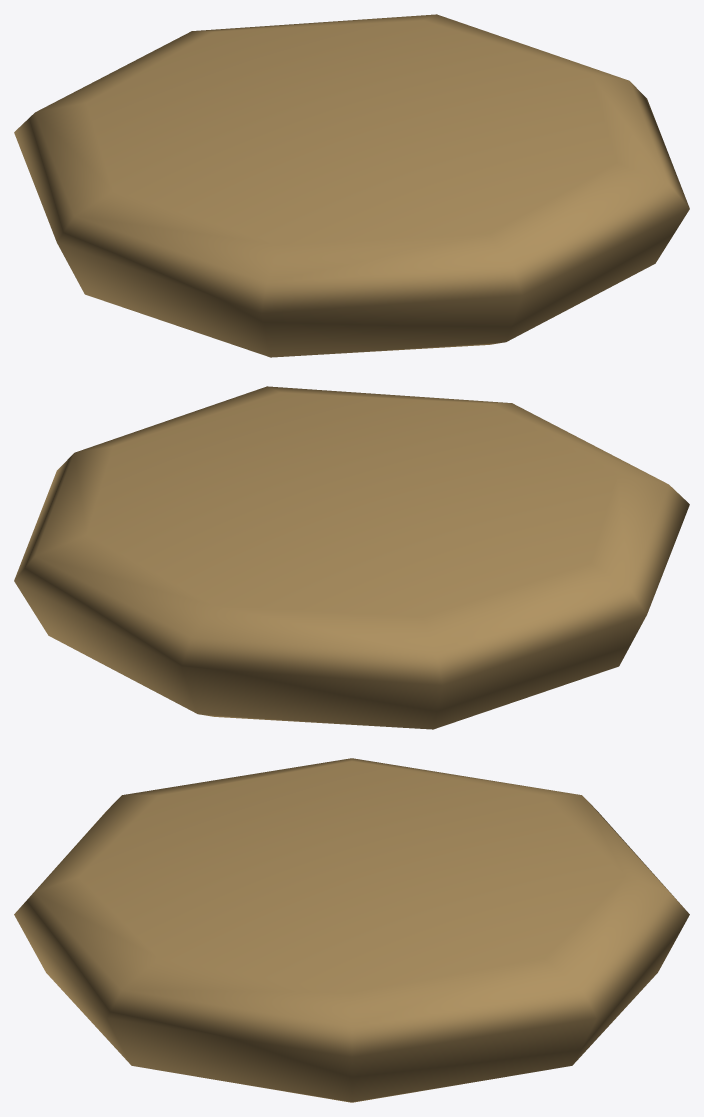
File: M_Food_Bun_001.fbx
The picture shows the model from 3 angles, top to bottom: view 1: azimuth 30°, elevation 25°; view 2: azimuth 150°, elevation 25°; view 3: azimuth 270°, elevation 25°; orthographic projection.
Parts seen in each view (by area): view 1: Bun_B; view 2: Bun_B; view 3: Bun_B.
Part boxes in pixels (x1,y1,x2,y2): Bun_B: (14,14,689,357); Bun_B: (14,386,689,729); Bun_B: (14,758,689,1102).
Bounding box in the file's own units: 58.91 × 10.92 × 58.91.
